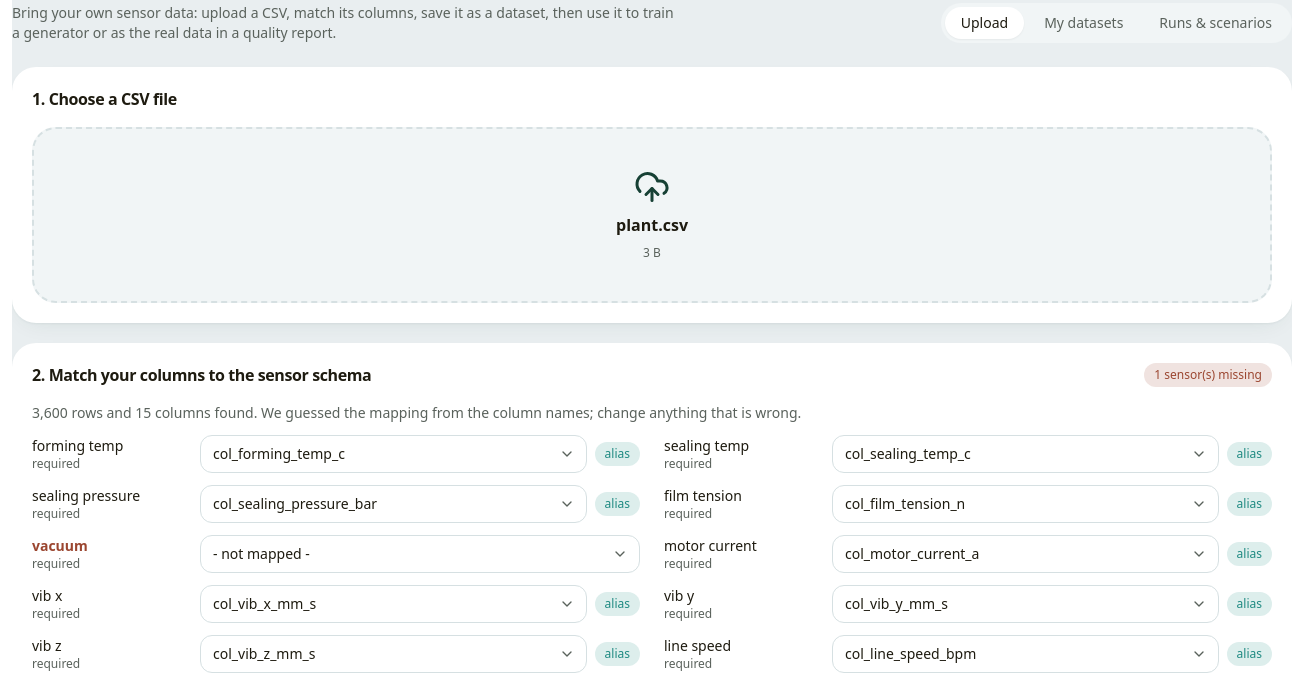
Test: Data Lab upload › blocks saving until every sensor is mapped, and flags a column used twice
The width and height of the screenshot is (1304, 683).
Earlier steps of the test are not shown.
Expected: the text "1 sensor(s) missing" is shown, [1144,363,1272,387]
Select "col_humidity_pct" in the dropdown named "Column for vacuum_kpa" at {"x": 420, "y": 554}, box [200,535,640,573]
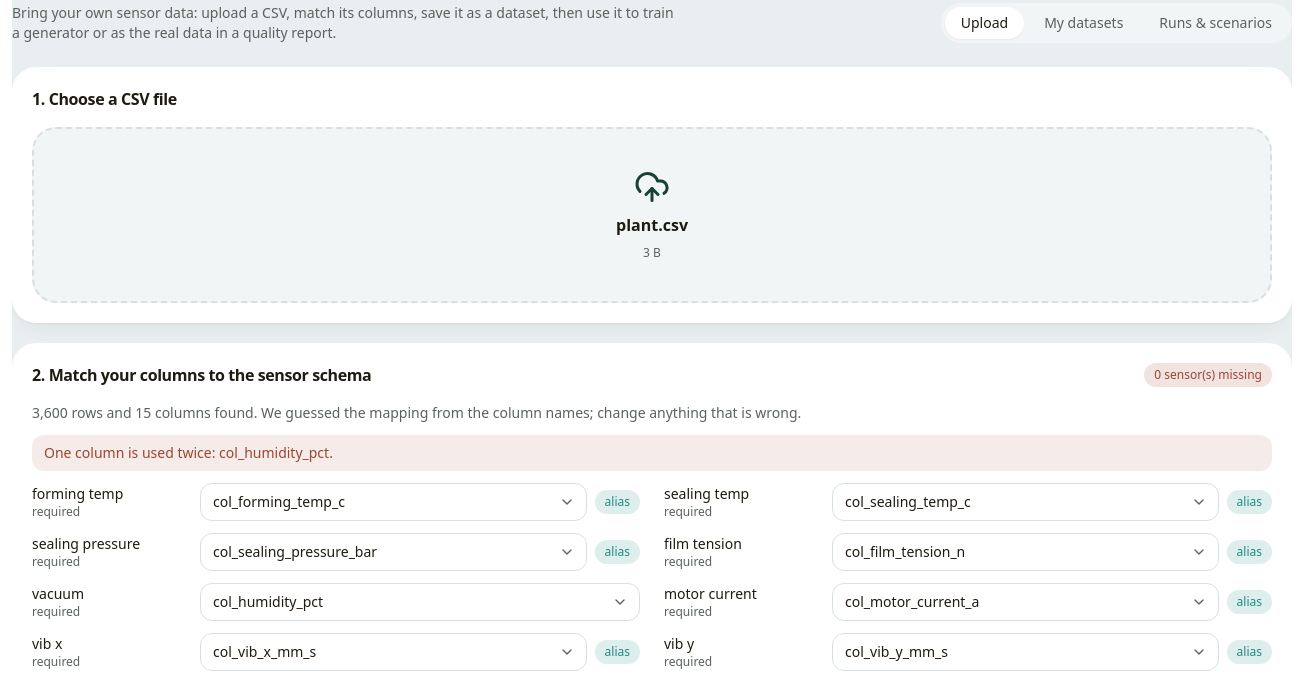
Result: the message shows "col_humidity_pct" at [219,443,329,462]
Select "operator_note" in the dropdown named "Column for vacuum_kpa" at {"x": 420, "y": 602}, box [200,583,640,621]
(page scrolled)
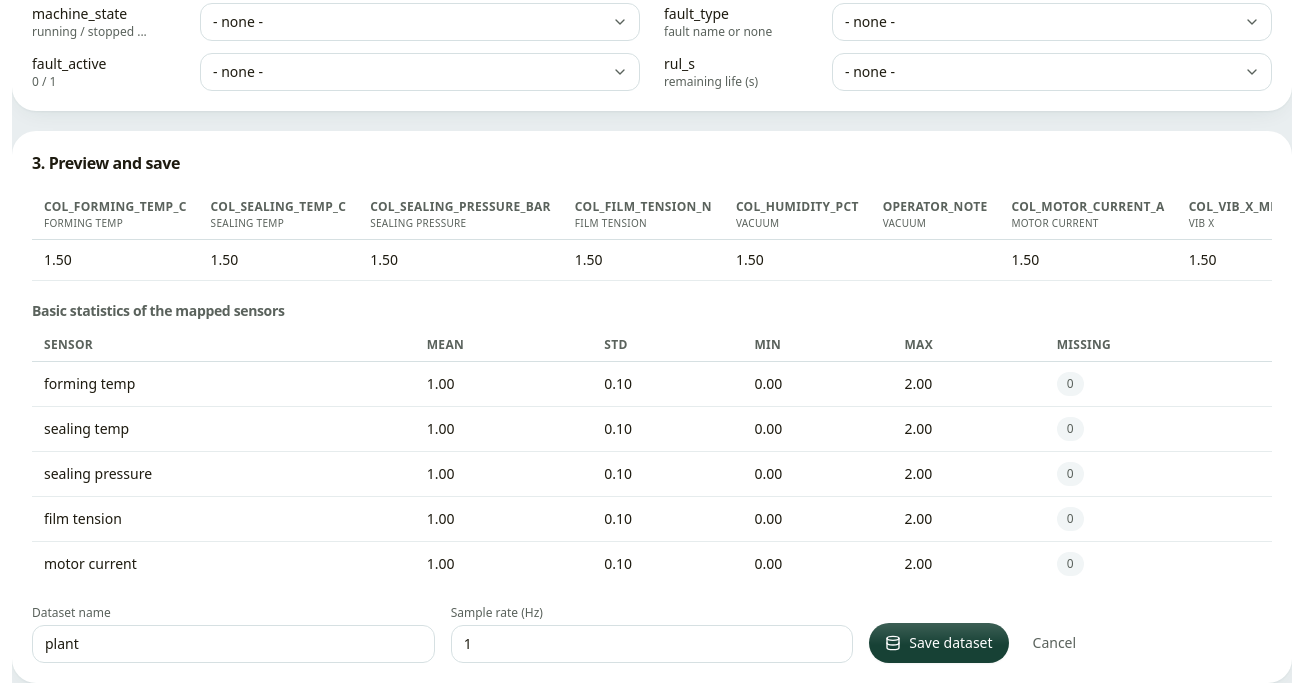
Result: the button "Save dataset" is enabled at [869,623,1008,663]
Result: the message "One column is used twice: col_humidity_pct." is gone
